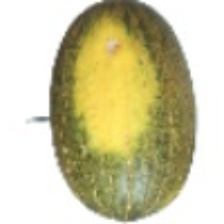honeydew: (25, 23, 174, 195)
